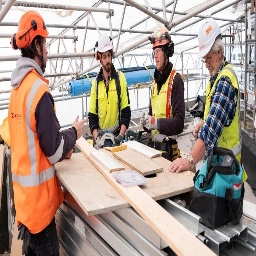helmet: (13, 7, 50, 49), (195, 17, 224, 64), (94, 35, 117, 61), (150, 27, 176, 50)
person: (7, 8, 79, 254), (194, 18, 242, 164), (87, 30, 132, 142), (144, 27, 186, 134)
vest: (8, 68, 62, 225), (201, 65, 248, 180), (90, 66, 130, 134), (146, 70, 179, 138)
